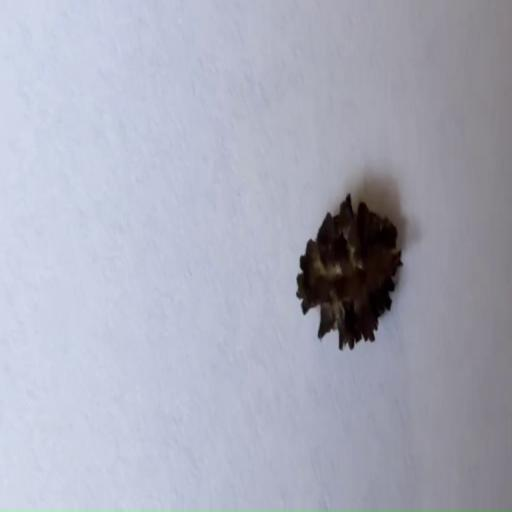papaya_seed: (292, 182, 408, 370)
